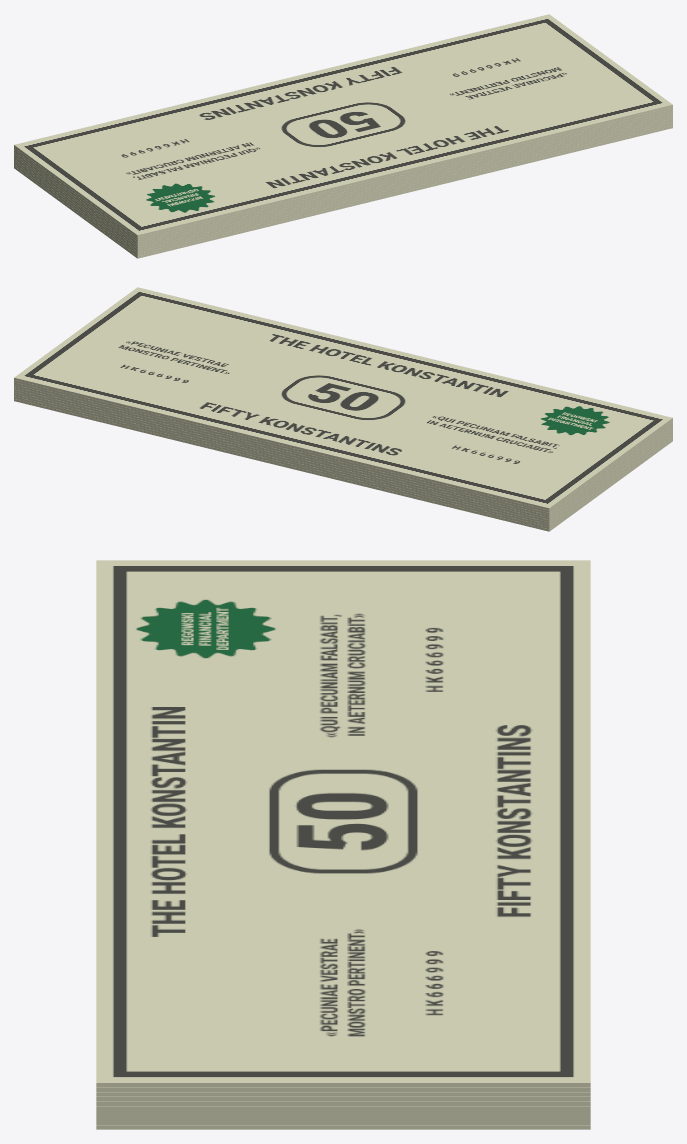
The model's file is konstantins.fbx.
3 renders of one model, top to bottom at view 1: azimuth 30°, elevation 25°; view 2: azimuth 150°, elevation 25°; view 3: azimuth 270°, elevation 25°, orthographic. The views are drawn at different scales.
Visible parts, largest first — view 1: Cube.001; view 2: Cube.001; view 3: Cube.001.
Part boxes in pixels (bbox=[...]): Cube.001: bbox=[14, 14, 672, 258]; Cube.001: bbox=[14, 287, 672, 531]; Cube.001: bbox=[96, 560, 590, 1129].
Size of the model in its own units: 500 by 20.9 by 200.
20 materials, 10 textured.
